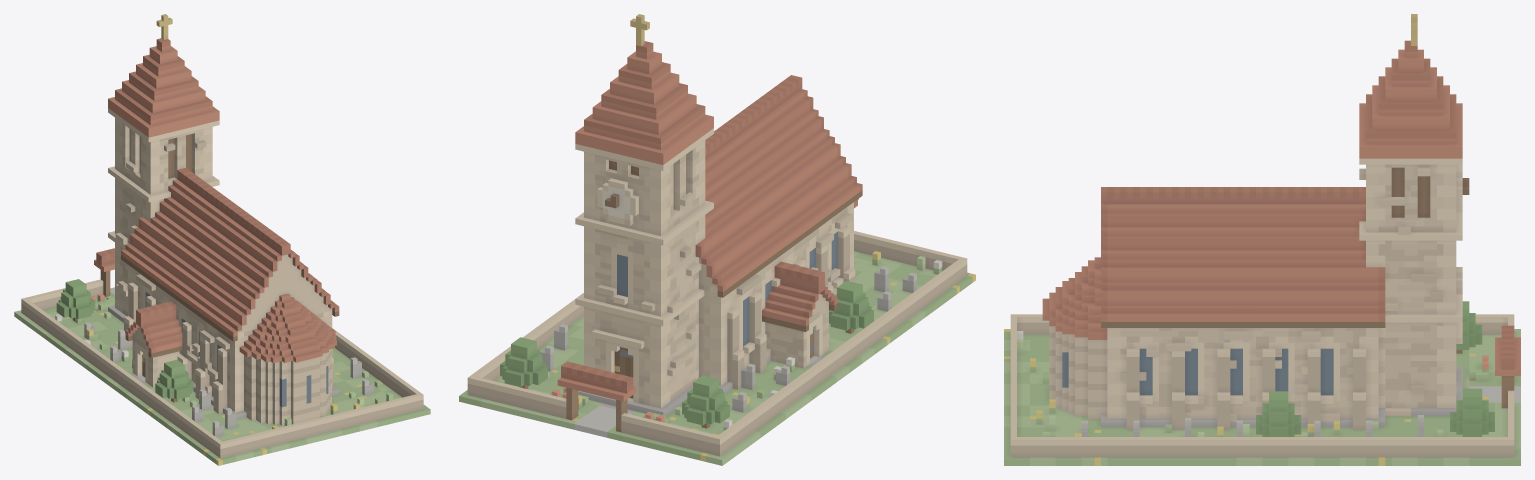
Rendered from church.glb.
The picture shows the model from 3 angles, left to right: view 1: azimuth 30°, elevation 25°; view 2: azimuth 150°, elevation 25°; view 3: azimuth 270°, elevation 25°; orthographic projection. The views are drawn at different scales.
Parts seen in each view (by area): view 1: church; view 2: church; view 3: church.
Part boxes in pixels (x1,y1,x2,y2): church: [14, 14, 430, 465]; church: [459, 14, 975, 465]; church: [1004, 14, 1520, 465].
Size of the model in its own units: 6 by 8.25 by 10.
